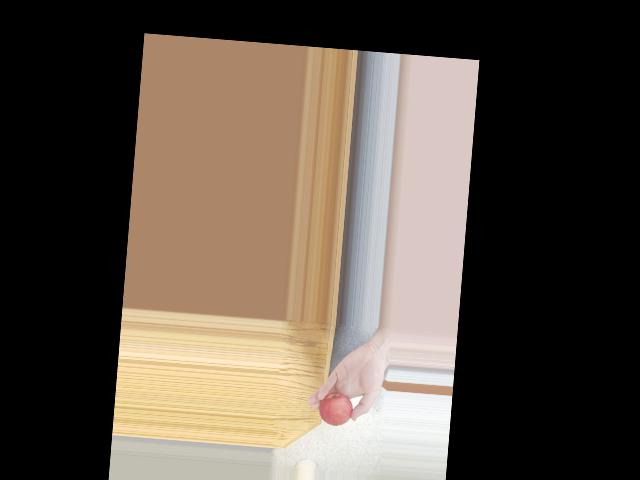apple: (317, 389, 359, 428)
